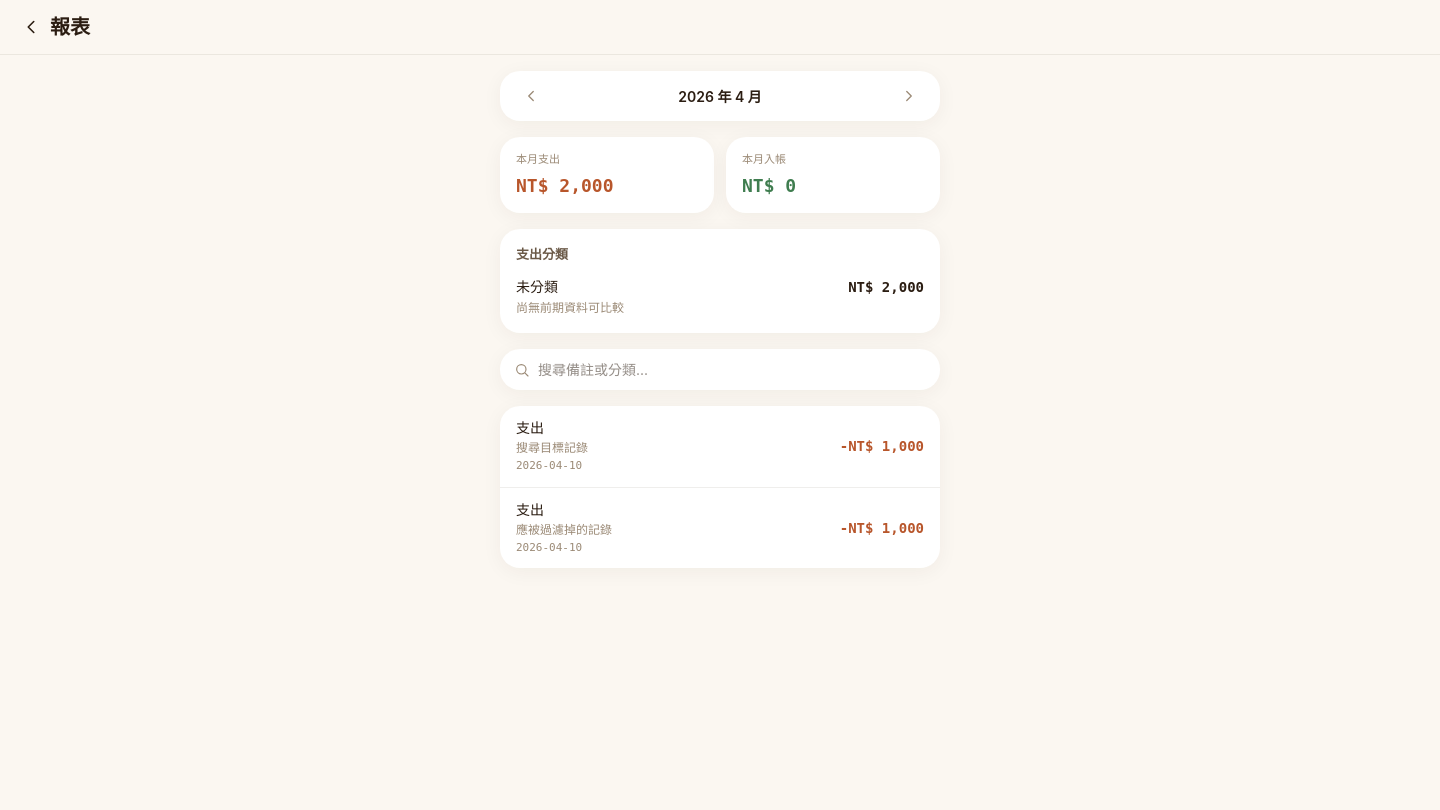
ReportView › 搜尋功能 › 搜尋分類名稱過濾記錄
Type "搜尋目標記錄" into the field with placeholder "搜尋備註或分類...". click: (732, 370)
box: [538,359,926,380]
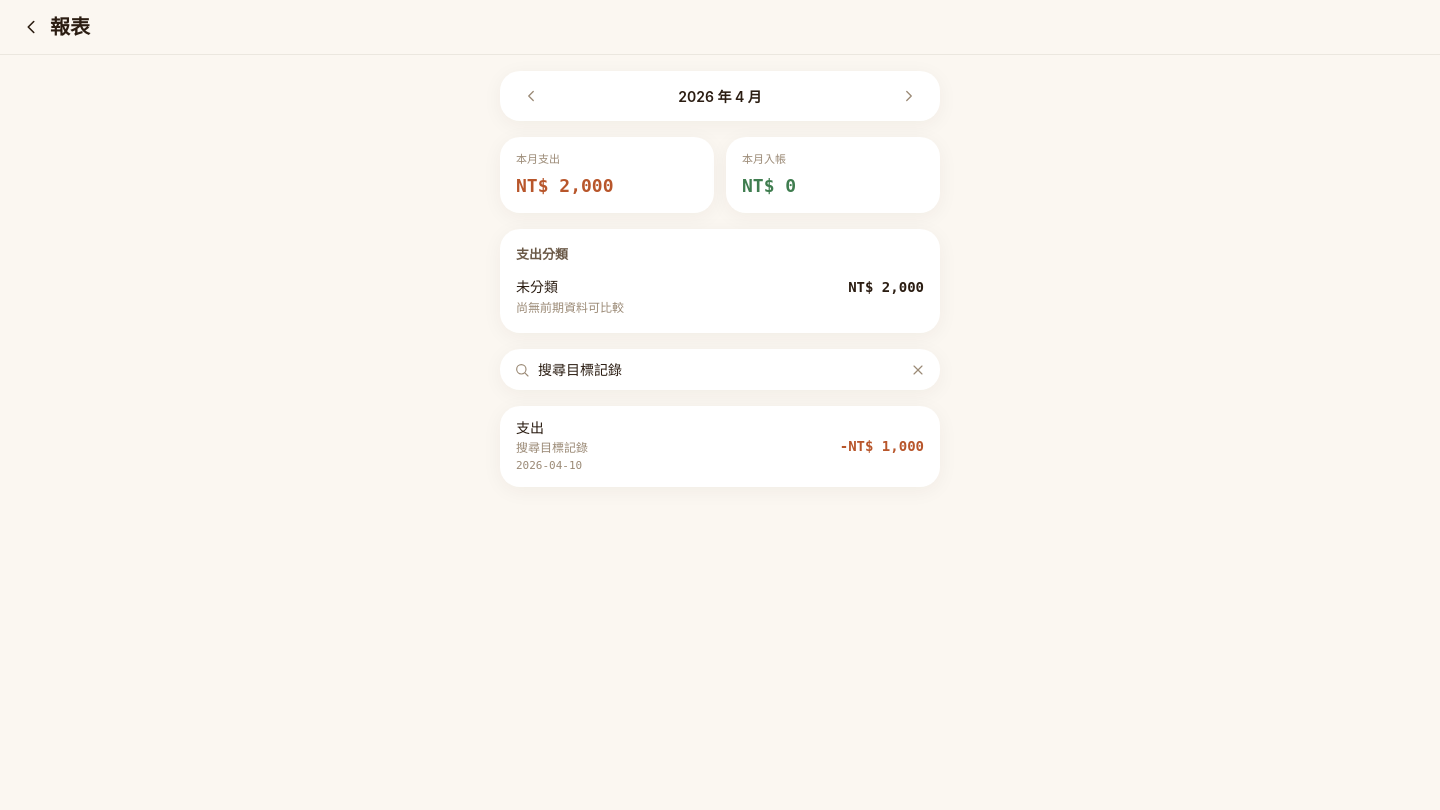
Expected: the text "搜尋目標記錄" is shown, [516,440,588,455]
Now the text "應被過濾掉的記錄" is gone
